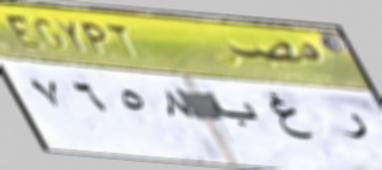5: (114, 84, 153, 128)
6: (74, 74, 108, 133)
7: (22, 67, 64, 117)
8: (154, 86, 192, 128)
baa: (212, 98, 259, 132)
ghayn: (264, 88, 316, 146)
raa: (336, 106, 368, 148)
